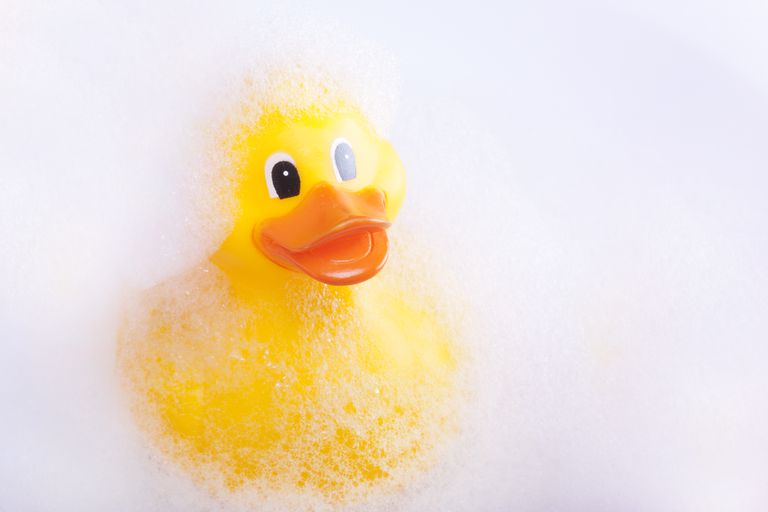Duck: (112, 74, 458, 498)
